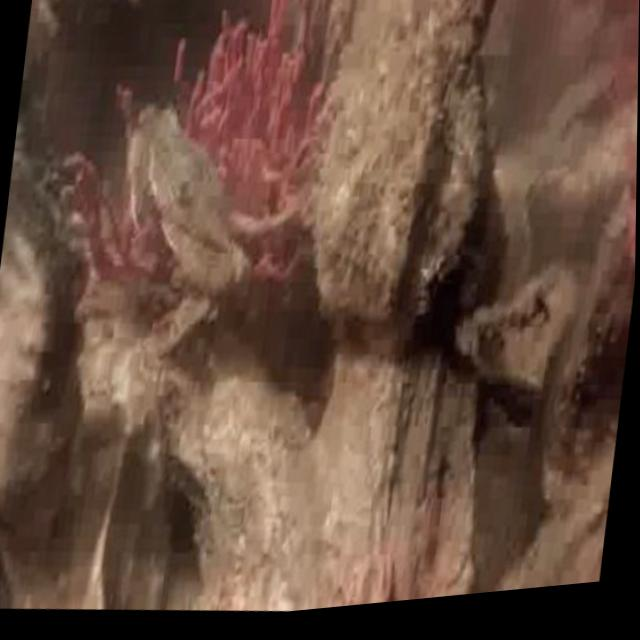Oyster-Indeterminate: (0, 172, 72, 493)
Oyster-Open: (313, 0, 490, 335), (0, 522, 19, 607)
